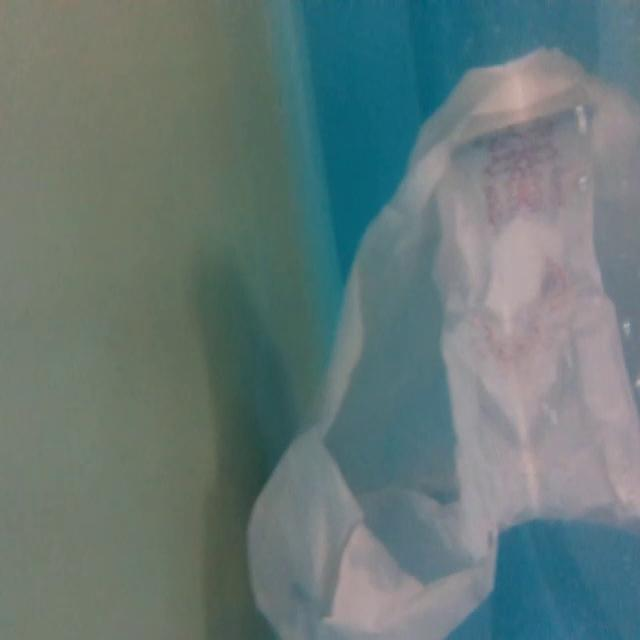plastic bags: (241, 41, 640, 640)
